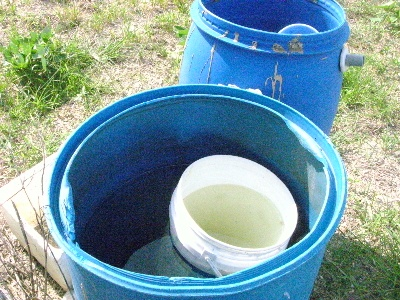bucket: (45, 83, 352, 300), (154, 151, 298, 282)
